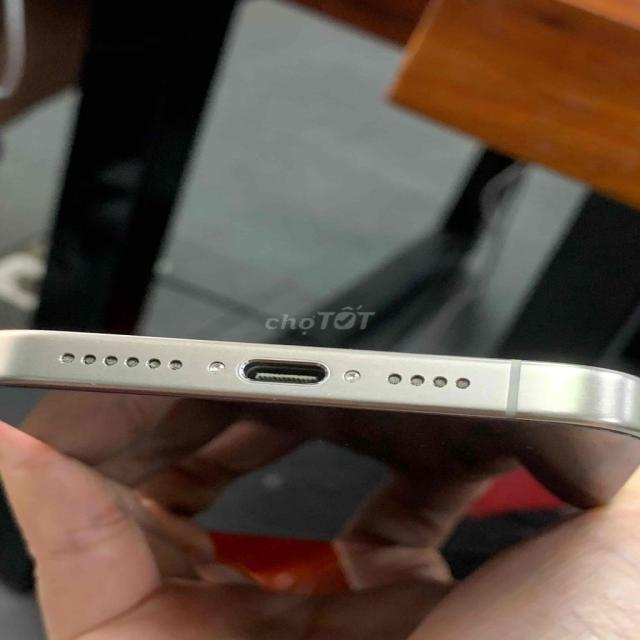gen_15: (0, 303, 640, 460)
scratch: (47, 335, 57, 341), (325, 392, 335, 397), (88, 382, 98, 386)
